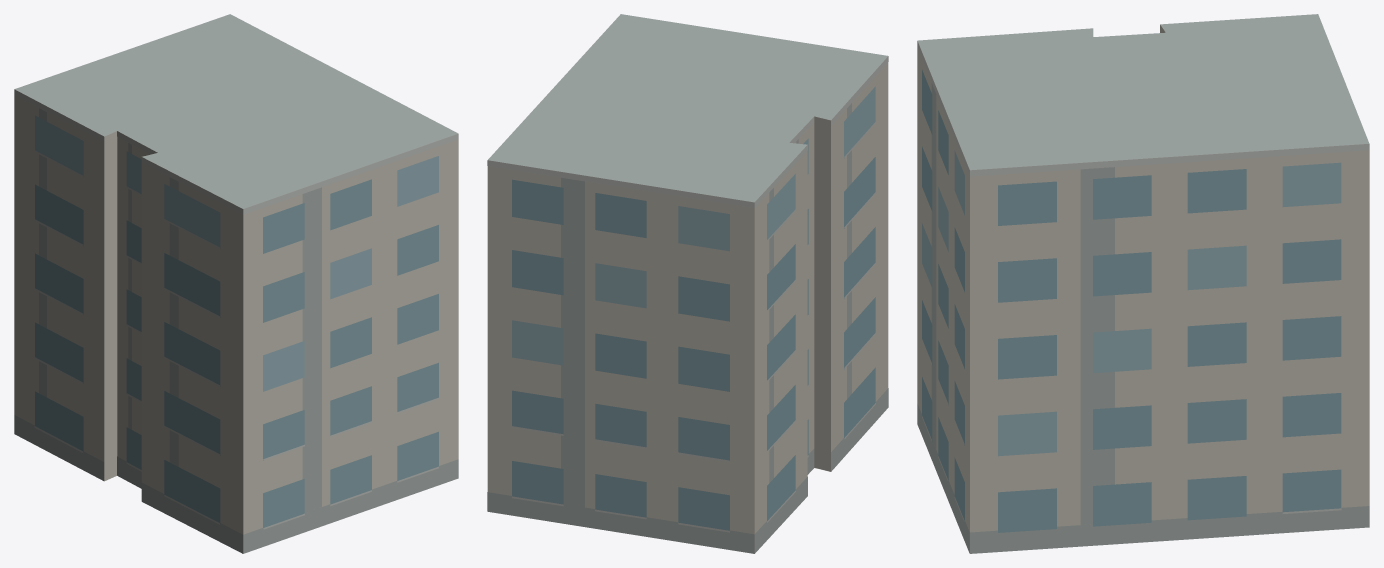
Rendered from survey-upis-32995920.glb.
The picture shows the model from 3 angles, left to right: view 1: azimuth 30°, elevation 25°; view 2: azimuth 150°, elevation 25°; view 3: azimuth 270°, elevation 25°; orthographic projection. The views are drawn at different scales.
Visible parts, largest first — view 1: survey-upis-32995920.tmp; view 2: survey-upis-32995920.tmp; view 3: survey-upis-32995920.tmp.
Part boxes in pixels (x1,y1,x2,y2): survey-upis-32995920.tmp: [14, 14, 458, 553]; survey-upis-32995920.tmp: [487, 14, 888, 553]; survey-upis-32995920.tmp: [917, 14, 1369, 553].
Bounding box in the file's own units: 12.72 × 14.55 × 15.55.
